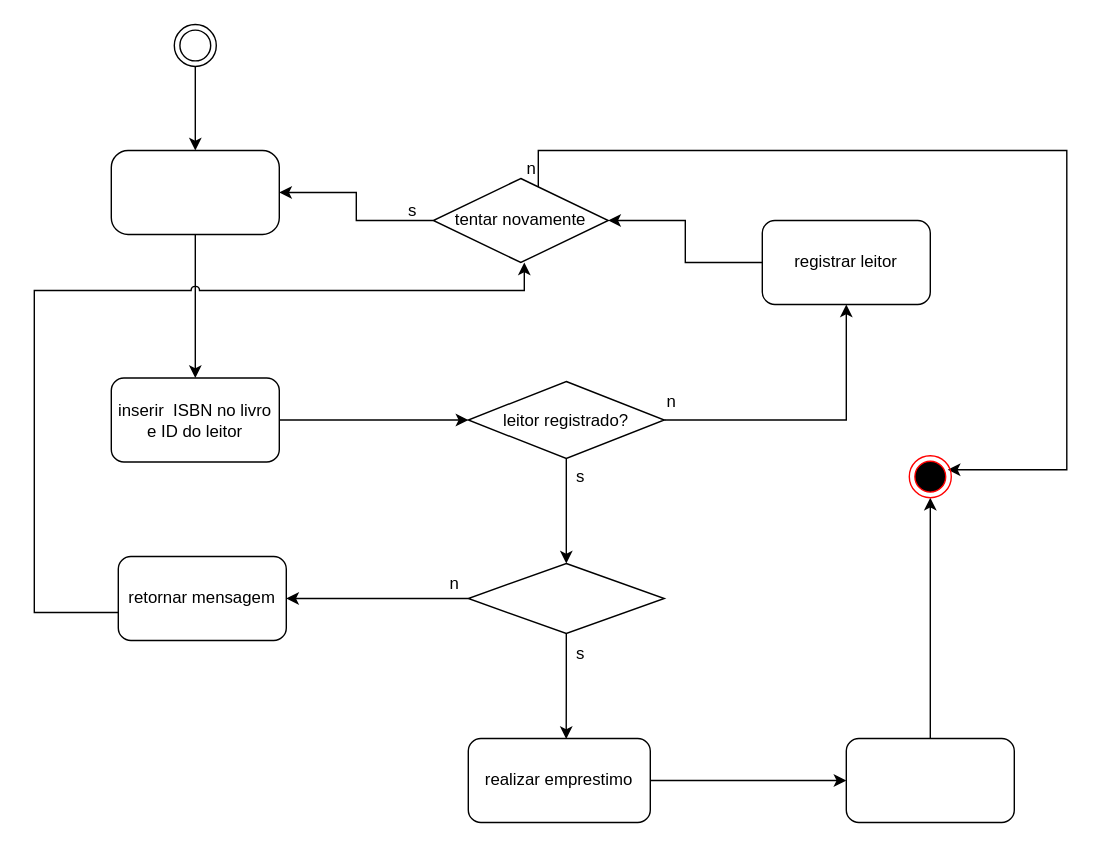
Some shapes in this 1103 by 847 pixel diagram are drawn without their labels. The shapes that lost their labels are listed below. From the top down, each one's centre as x and y in pixels, then its label:
At [194,191]: "escolher opção de emprestimo no sistema".
At [565,598]: "livro disponivel?".
At [929,779]: "gravar emprestimo".
